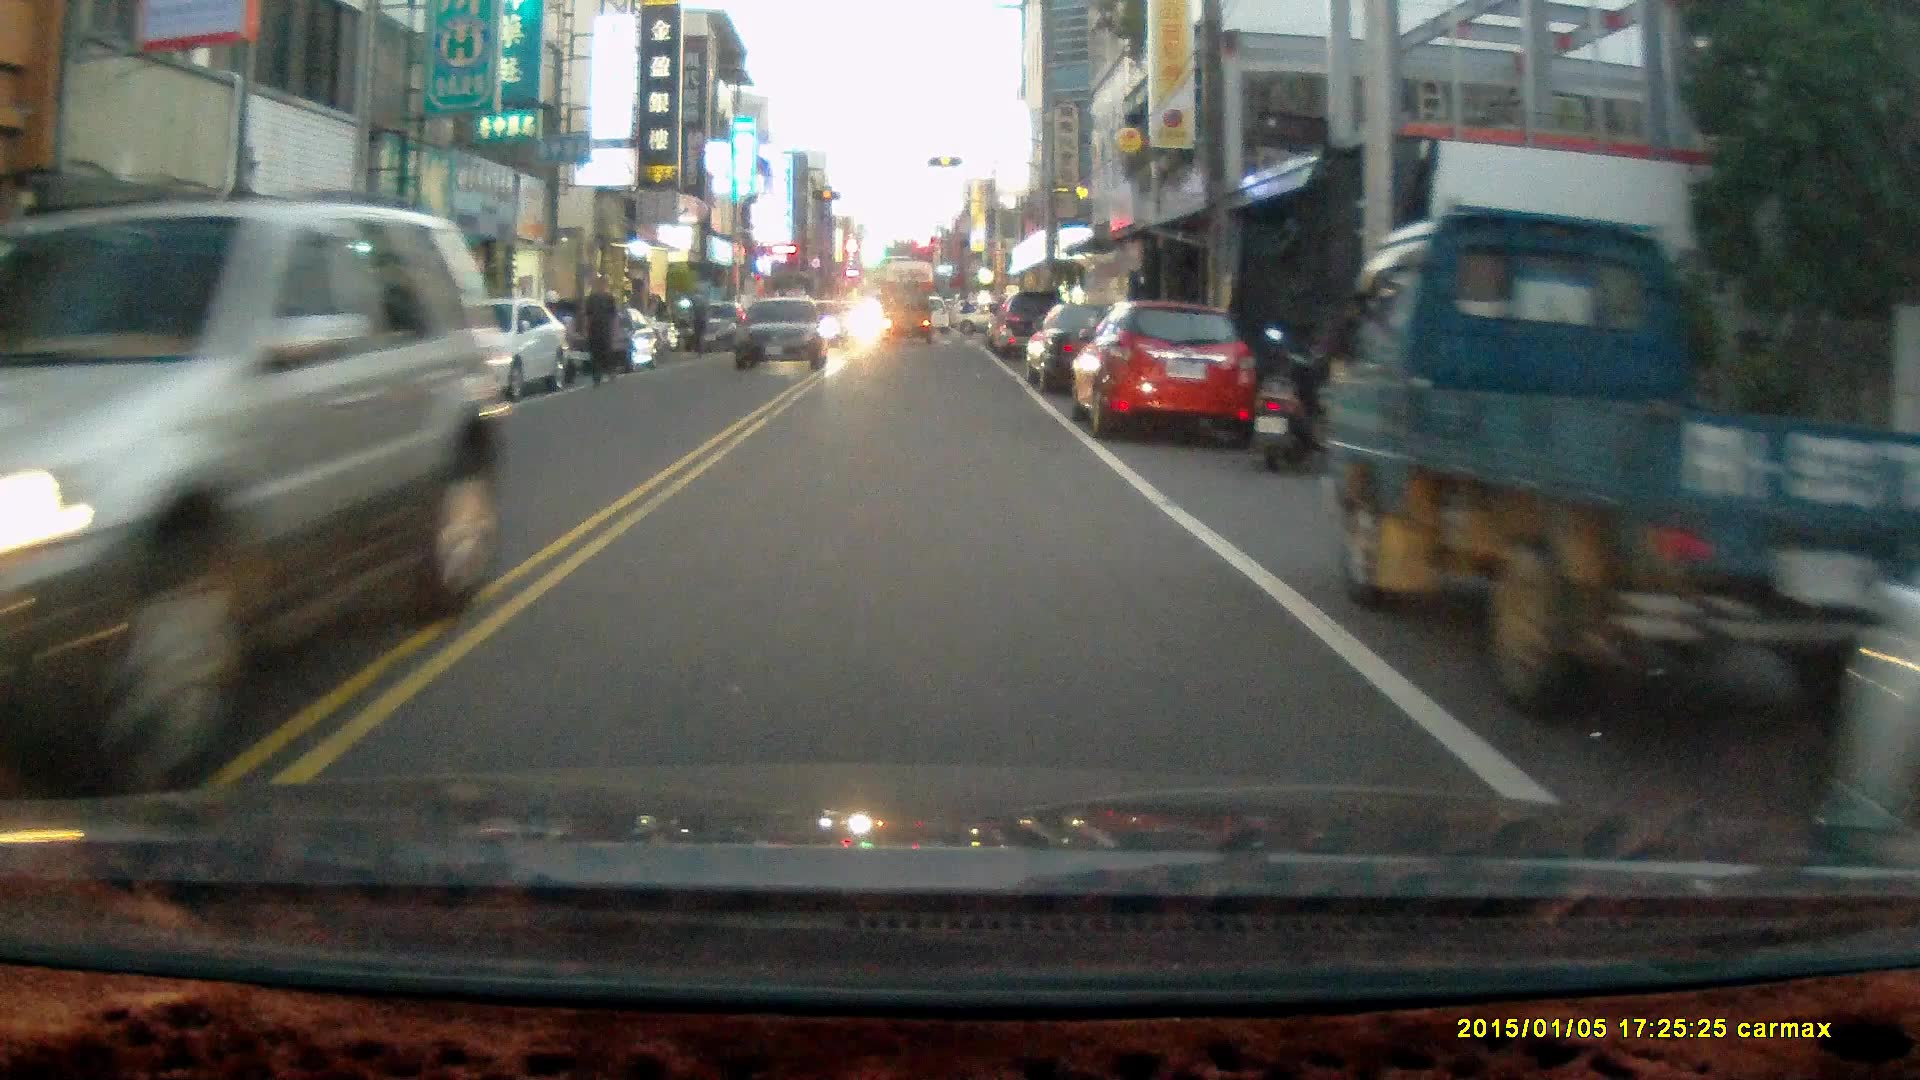pedestrian: (577, 271, 616, 390), (686, 288, 710, 354)
vehicle: (1319, 205, 1920, 710), (1, 201, 505, 782), (1072, 301, 1256, 445), (1025, 291, 1176, 401), (736, 293, 828, 372), (877, 283, 936, 347)
